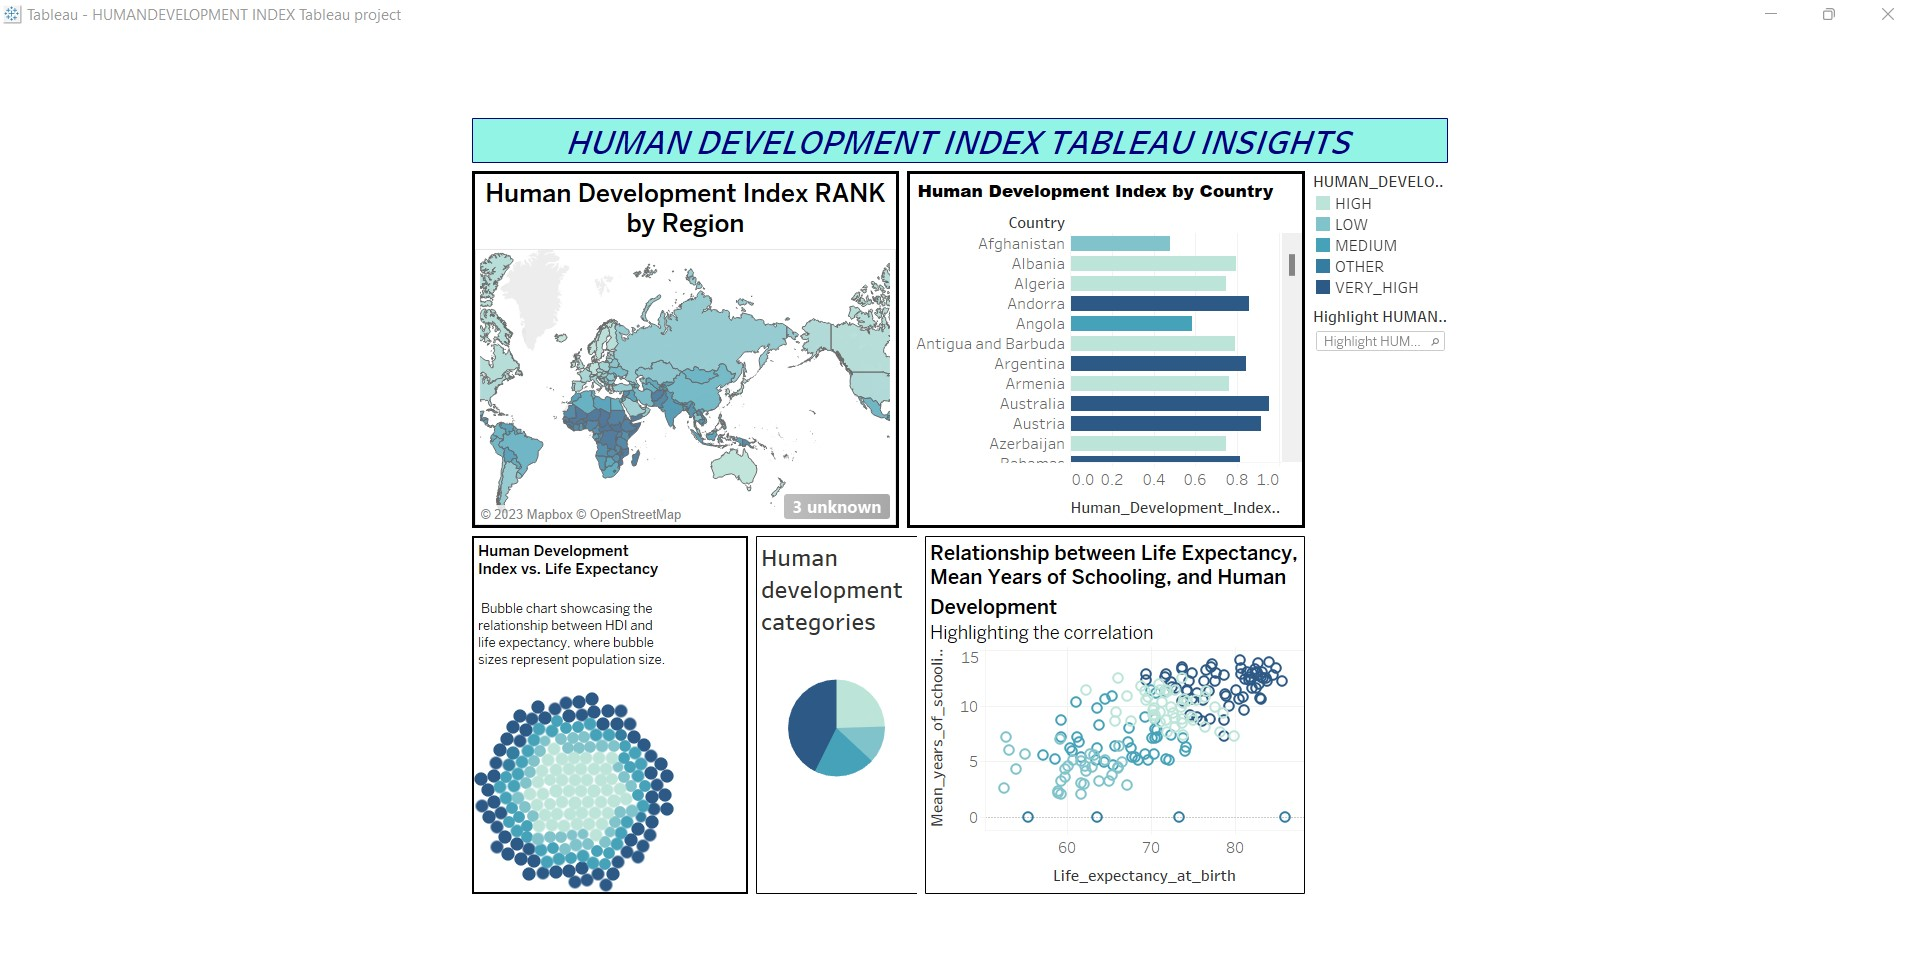

The dashboard page shown, as its layout file describes it:
{"tool":"tableau","page":{"name":"Dashboard 1","canvas":[1000,800],"ordinal":0},"visuals":[{"type":"title","box":[8,8,984,53]},{"type":"worksheet","title":"Sheet 3","mark":"Automatic","box":[8,61,434.6,365.5]},{"type":"worksheet","title":"Sheet 1","mark":"Automatic","rows":["Country"],"cols":["Human_Development_Index (HDI) "],"box":[442.6,61,406.4,365.5]},{"type":"legend","title":"Sheet 5","param":"[federated.0avthnd0unuc0919njcmj0j8yrsr].[none:HUMAN_DEVELOPMENT:nk]","box":[849,61,143,135]},{"type":"highlighter","title":"Sheet 4","param":"[federated.0avthnd0unuc0919njcmj0j8yrsr].[none:HUMAN_DEVELOPMENT:nk]","box":[849,196,143,56]},{"type":"worksheet","title":"Sheet 5","mark":"Circle","box":[8,426.5,283.6,365.5]},{"type":"worksheet","title":"Sheet 4","mark":"Pie","box":[291.6,426.5,169.6,365.5]},{"type":"worksheet","title":"Sheet 2","mark":"Automatic","rows":["Mean_years_of_schooling"],"cols":["Life_expectancy_at_birth"],"box":[461.2,426.5,387.8,365.5]}]}

Visuals, with their boxes on the page's 1000x800 design canvas (x1, y1, x2, y2). These are canvas units, not pixel positions in the 1920x967 screenshot, which may show the page scaled, cropped or inside an application window:
title: <region>8, 8, 992, 61</region>
"Sheet 3" worksheet: <region>8, 61, 443, 426</region>
"Sheet 1" worksheet: <region>443, 61, 849, 426</region>
"Sheet 5" legend: <region>849, 61, 992, 196</region>
"Sheet 4" highlighter: <region>849, 196, 992, 252</region>
"Sheet 5" worksheet (Circle marks): <region>8, 426, 292, 792</region>
"Sheet 4" worksheet (Pie marks): <region>292, 426, 461, 792</region>
"Sheet 2" worksheet: <region>461, 426, 849, 792</region>
